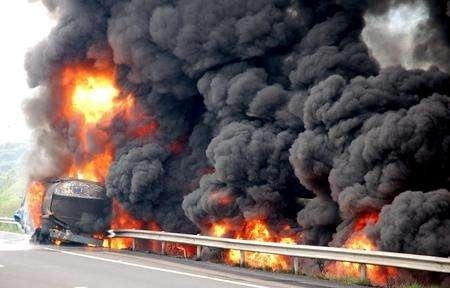fire: (209, 215, 295, 270)
